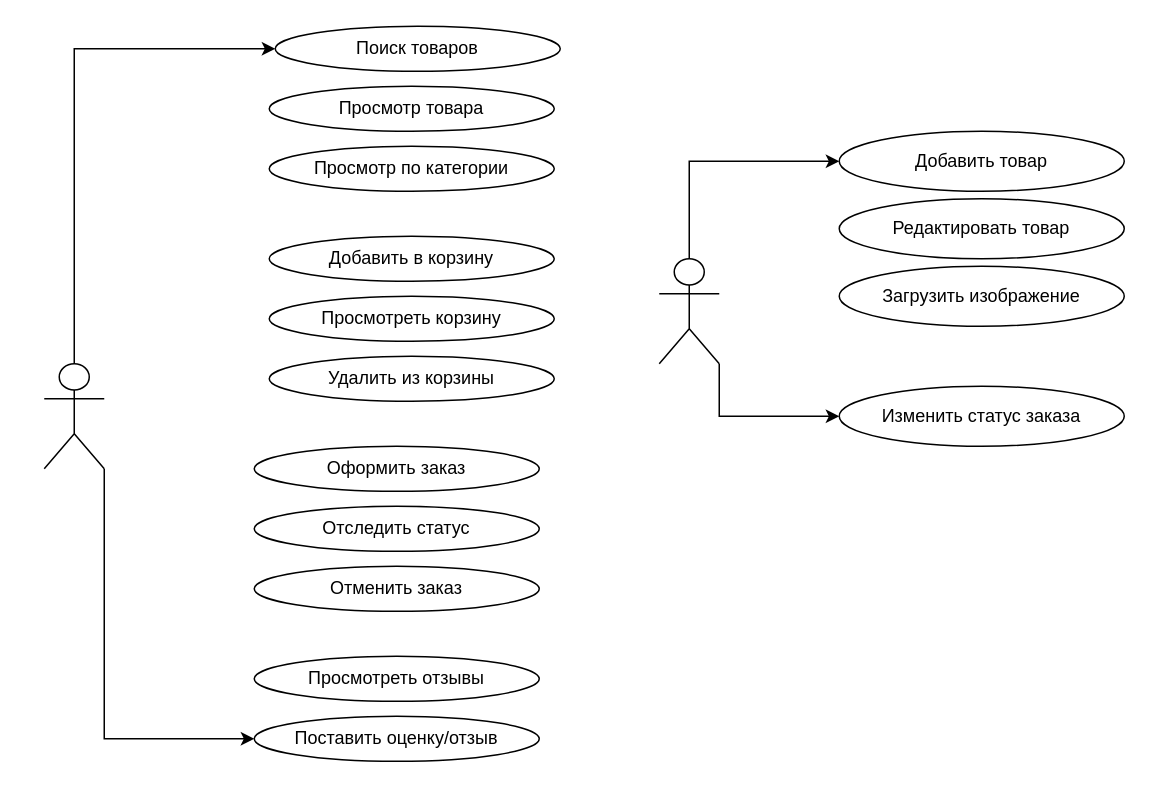
Image size: 1151x788. Some labels were removed from this diagram. The shapes that lost their labels are listed below. From the top down, each one's box as (x1, y1, x2, y2) in pixels, then its label:
(658, 257, 719, 364): Админ
(43, 362, 104, 469): Покупатель
